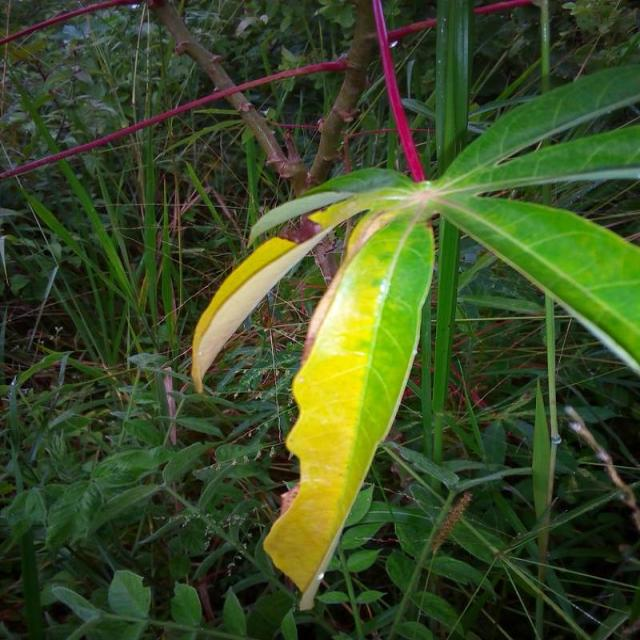cassava leaf: (190, 57, 640, 610), (262, 194, 437, 609)
